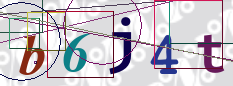4: (149, 31, 183, 77)
6: (59, 30, 93, 75)
b: (16, 33, 46, 76)
j: (107, 13, 142, 74)
t: (194, 31, 229, 73)
